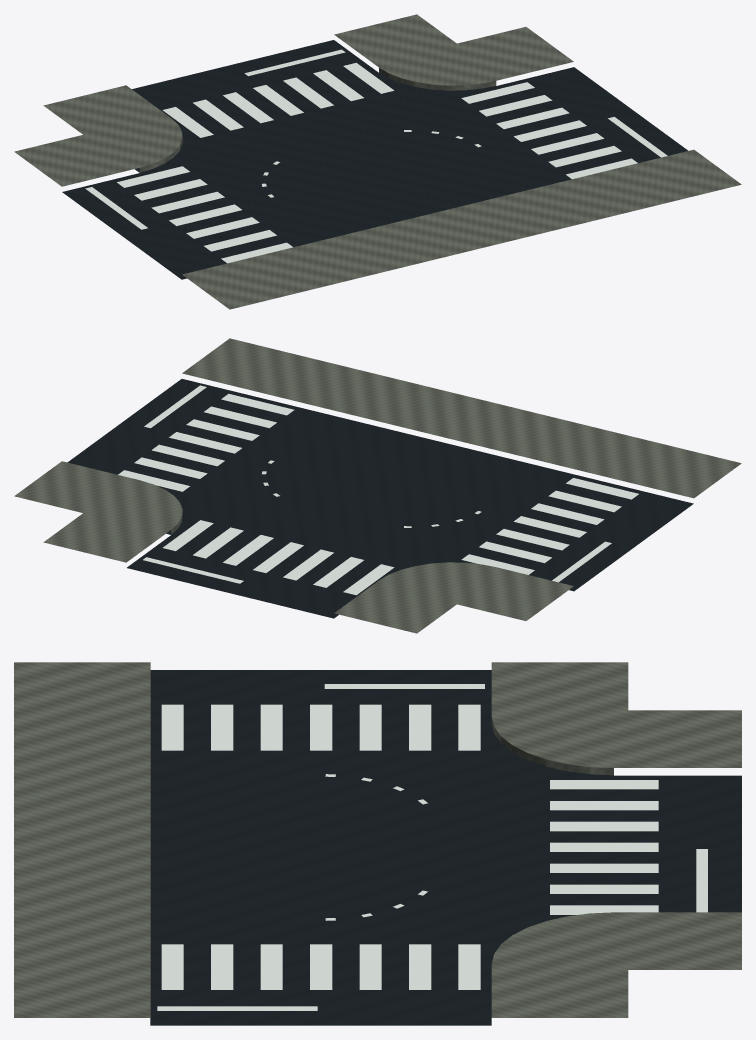
File: junc_tee_2x2_LOD0.glb
3 renders of one model, top to bottom at view 1: azimuth 30°, elevation 25°; view 2: azimuth 150°, elevation 25°; view 3: azimuth 270°, elevation 25°, orthographic. The views are drawn at different scales.
Parts seen in each view (by area): view 1: junc_tee_2x2__surface, junc_tee_2x2__rounded_corner_curb, junc_tee_2x2__crosswalk_paint, junc_tee_2x2__stop_line_paint; view 2: junc_tee_2x2__surface, junc_tee_2x2__rounded_corner_curb, junc_tee_2x2__crosswalk_paint, junc_tee_2x2__stop_line_paint; view 3: junc_tee_2x2__surface, junc_tee_2x2__rounded_corner_curb, junc_tee_2x2__crosswalk_paint, junc_tee_2x2__stop_line_paint.
Boxes of the visible parts, x1,y1,x2,y2 form: junc_tee_2x2__surface: (62,40,688,279); junc_tee_2x2__rounded_corner_curb: (14,14,741,309); junc_tee_2x2__crosswalk_paint: (117,62,637,263); junc_tee_2x2__stop_line_paint: (85,49,667,229); junc_tee_2x2__surface: (67,379,693,618); junc_tee_2x2__rounded_corner_curb: (14,338,741,633); junc_tee_2x2__crosswalk_paint: (118,393,638,595); junc_tee_2x2__stop_line_paint: (143,385,611,583); junc_tee_2x2__surface: (150,670,741,1025); junc_tee_2x2__rounded_corner_curb: (14,662,741,1017); junc_tee_2x2__crosswalk_paint: (161,704,658,989); junc_tee_2x2__stop_line_paint: (157,684,707,1010).
Size of the model in its own units: 14.8 by 0.145 by 12.8.
Materials: 4 (3 with a texture image).
